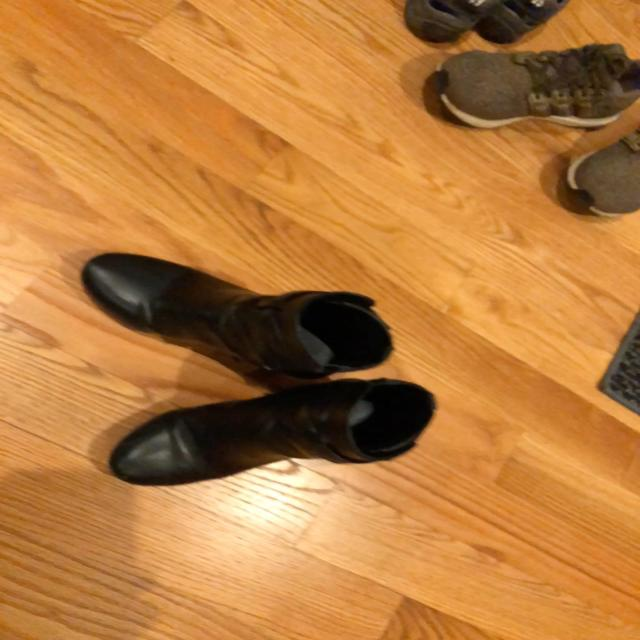shoe: (81, 253, 396, 383), (106, 379, 440, 489)
